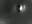person: (19, 5, 24, 14)
